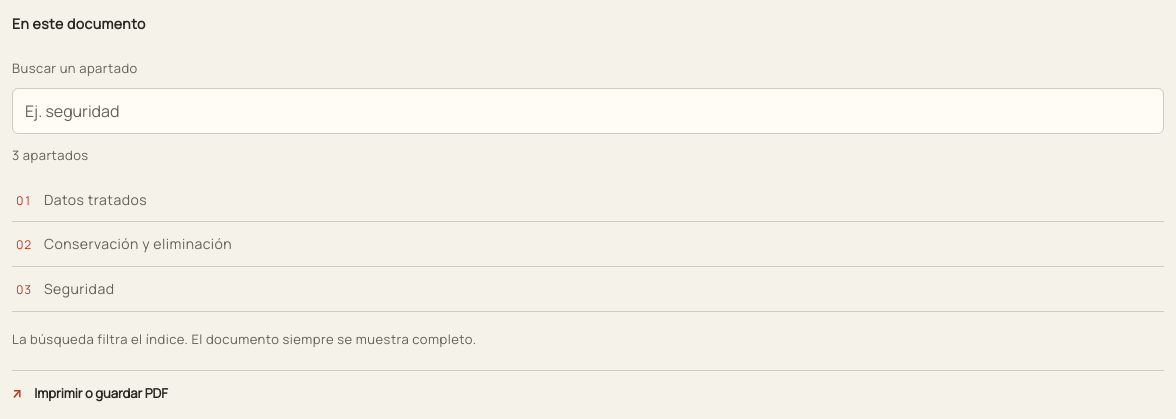
Test: Legal document index › matches accent-insensitive Spanish titles and preserves original chapter numbers
Step 1. Type "  ELIMINACION " into the search field labelled "Buscar un apartado" → (588, 111), box [13,89,1163,133]
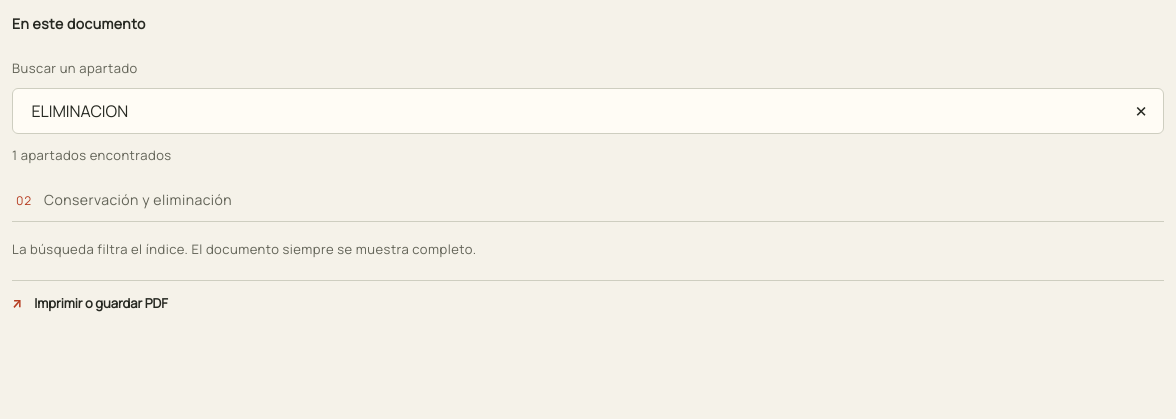
Expected: the link "02 Conservación y eliminación" is shown, [12,178,1164,222]
Expected: the number of links is 1, [12,178,1164,222]
